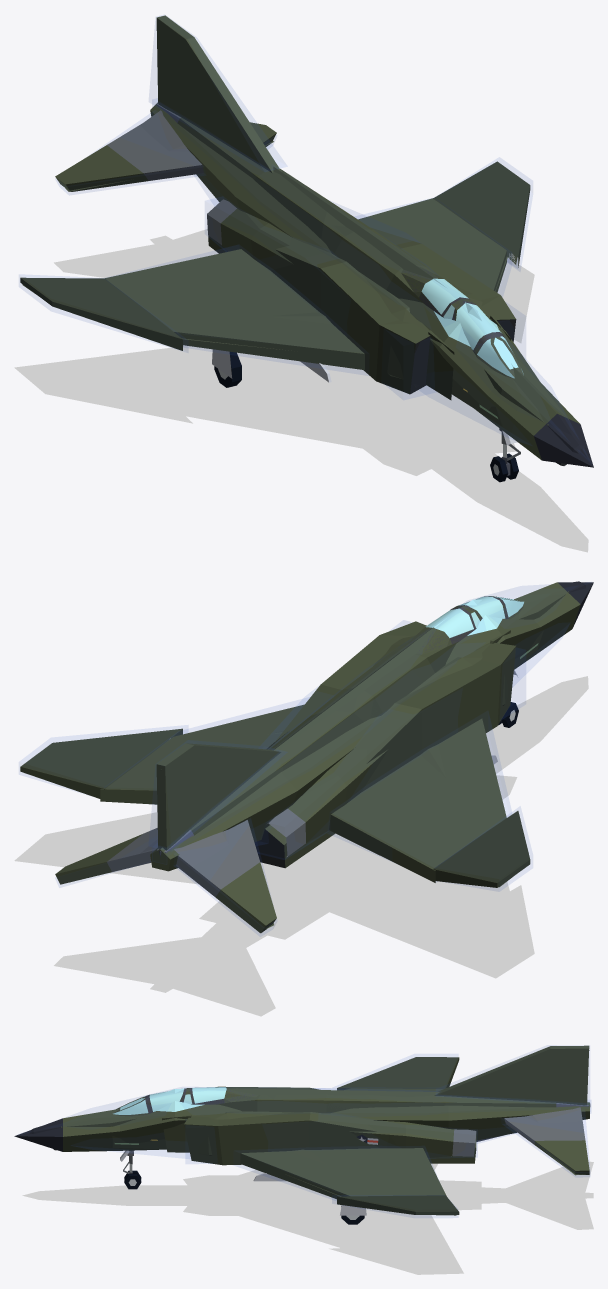
The picture shows the model from 3 angles, top to bottom: view 1: azimuth 30°, elevation 25°; view 2: azimuth 150°, elevation 25°; view 3: azimuth 270°, elevation 25°; orthographic projection. The views are drawn at different scales.
Visible parts, largest first — view 1: Shadow, LODFuselage, LODWingRight, Fuselage, LODTail, LODWingLeft, LODWingtipLeft, LODElevatorRight, LODWingtipRight, GibsBody, GibsEngines, Canopy (+3 smaller); view 2: Shadow, LODFuselage, LODWingRight, Fuselage, LODTail, LODWingtipLeft, LODElevatorRight, LODWingLeft, LODWingtipRight, GibsBody, GibsEngines, LODElevatorLeft (+4 smaller); view 3: Shadow, LODFuselage, LODWingLeft, Fuselage, LODTail, GibsBody, LODElevatorLeft, LODWingtipRight, LODWingtipLeft, GibsEngines, Canopy, ElevatorsRoot (+2 smaller).
Part boxes in pixels (box(x1,y1,x2,y2)): Shadow: box(14, 229, 588, 552); LODFuselage: box(150, 102, 593, 467); LODWingRight: box(104, 249, 364, 370); Fuselage: box(156, 103, 585, 465); LODTail: box(156, 15, 281, 173); LODWingLeft: box(358, 198, 506, 292); LODWingtipLeft: box(433, 161, 530, 268); LODElevatorRight: box(55, 124, 203, 191); LODWingtipRight: box(20, 277, 182, 350); GibsBody: box(321, 207, 513, 426); GibsEngines: box(207, 155, 338, 261); Canopy: box(401, 266, 523, 378); Shadow: box(14, 676, 588, 1016); LODFuselage: box(150, 582, 593, 871); LODWingRight: box(329, 718, 506, 883); Fuselage: box(157, 581, 585, 856); LODTail: box(156, 743, 281, 850); LODWingtipLeft: box(20, 728, 182, 798); LODElevatorRight: box(176, 820, 276, 933); LODWingLeft: box(100, 704, 304, 804); LODWingtipRight: box(433, 811, 530, 887); GibsBody: box(269, 604, 543, 746); GibsEngines: box(250, 711, 384, 787); LODElevatorLeft: box(55, 828, 157, 884); Shadow: box(22, 1161, 593, 1274); LODFuselage: box(14, 1086, 589, 1165); LODWingLeft: box(240, 1148, 446, 1199); Fuselage: box(29, 1094, 590, 1159); LODTail: box(434, 1045, 589, 1105); GibsBody: box(111, 1095, 389, 1155); LODElevatorLeft: box(504, 1112, 589, 1174); LODWingtipRight: box(337, 1057, 459, 1090); LODWingtipLeft: box(337, 1195, 459, 1214); GibsEngines: box(368, 1095, 486, 1148); Canopy: box(113, 1087, 257, 1116); ElevatorsRoot: box(525, 1107, 582, 1122).
Size of the model in its own units: 12.24 by 5.36 by 18.91.
